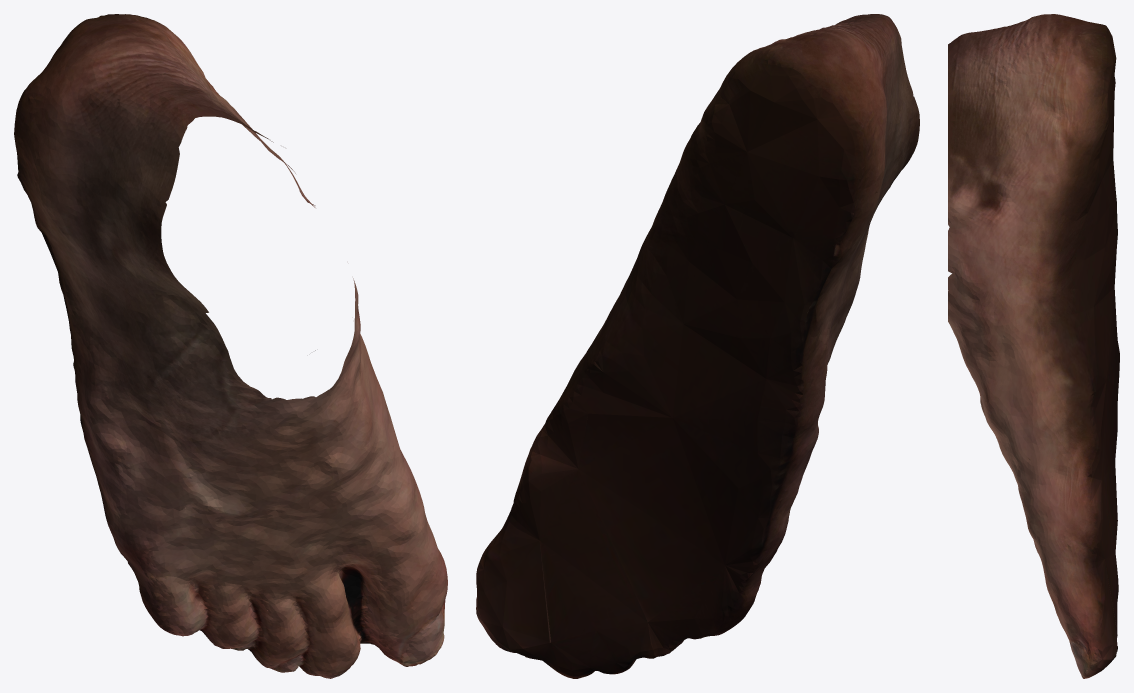
File: scan-pranav-real.glb
3 renders of one model, left to right at view 1: azimuth 30°, elevation 25°; view 2: azimuth 150°, elevation 25°; view 3: azimuth 270°, elevation 25°, orthographic. The views are drawn at different scales.
Parts seen in each view (by area): view 1: geometry_0; view 2: geometry_0; view 3: geometry_0.
Part boxes in pixels (box(x1,y1,x2,y2)): geometry_0: box(14, 14, 447, 678); geometry_0: box(476, 14, 919, 678); geometry_0: box(948, 14, 1119, 678).
Size of the model in its own units: 145 by 239 by 68.37.
Materials: 1 (1 with a texture image).
